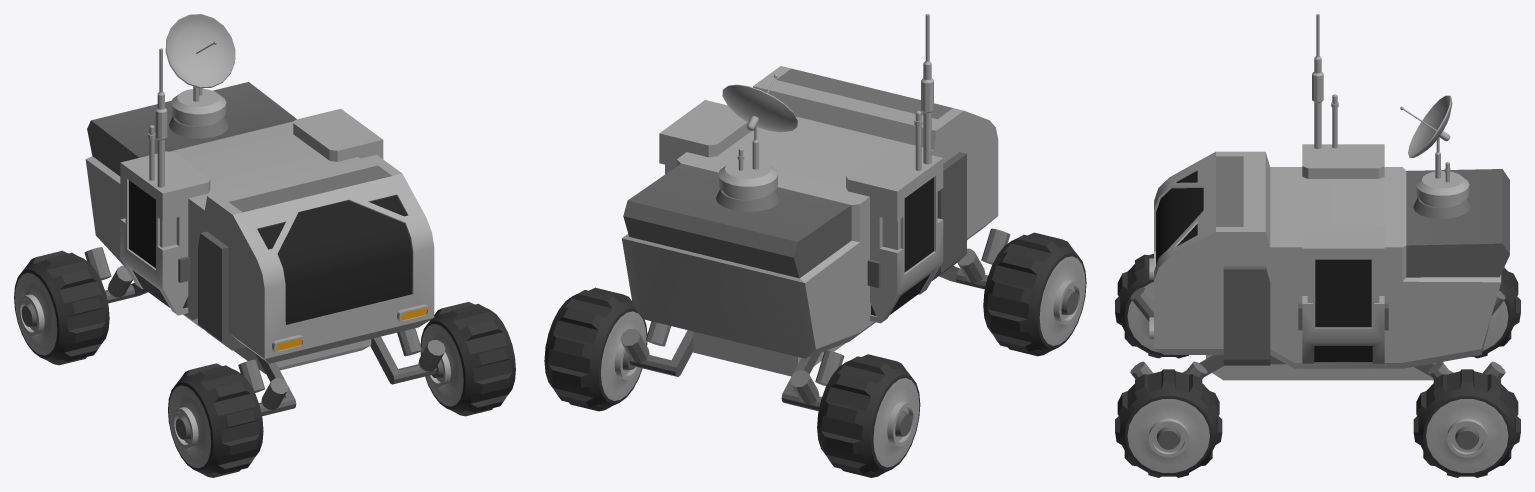
Rendered from Enemy_Rover.glb.
The picture shows the model from 3 angles, left to right: view 1: azimuth 30°, elevation 25°; view 2: azimuth 150°, elevation 25°; view 3: azimuth 270°, elevation 25°; orthographic projection. The views are drawn at different scales.
Parts seen in each view (by area): view 1: Rover_1, Wheel_4.001, Wheel_4.002, Wheel_5; view 2: Rover_1, Wheel_4.001, Wheel_4.002, Wheel_1.002; view 3: Rover_1, Wheel_5, Wheel_1.002, Wheel_4.001, Wheel_4.002.
Part boxes in pixels (x1,y1,x2,y2): Rover_1: [84, 14, 445, 416]; Wheel_4.001: [168, 363, 263, 477]; Wheel_4.002: [14, 250, 109, 365]; Wheel_5: [420, 302, 515, 416]; Rover_1: [620, 14, 1010, 411]; Wheel_4.001: [983, 232, 1086, 356]; Wheel_4.002: [817, 354, 920, 477]; Wheel_1.002: [544, 287, 647, 411]; Rover_1: [1130, 14, 1509, 380]; Wheel_5: [1115, 369, 1222, 477]; Wheel_1.002: [1413, 369, 1520, 477]; Wheel_4.001: [1115, 254, 1188, 358]; Wheel_4.002: [1471, 267, 1520, 358].
Size of the model in its own units: 4.58 by 4.88 by 5.16.
1 material, 1 textured.
